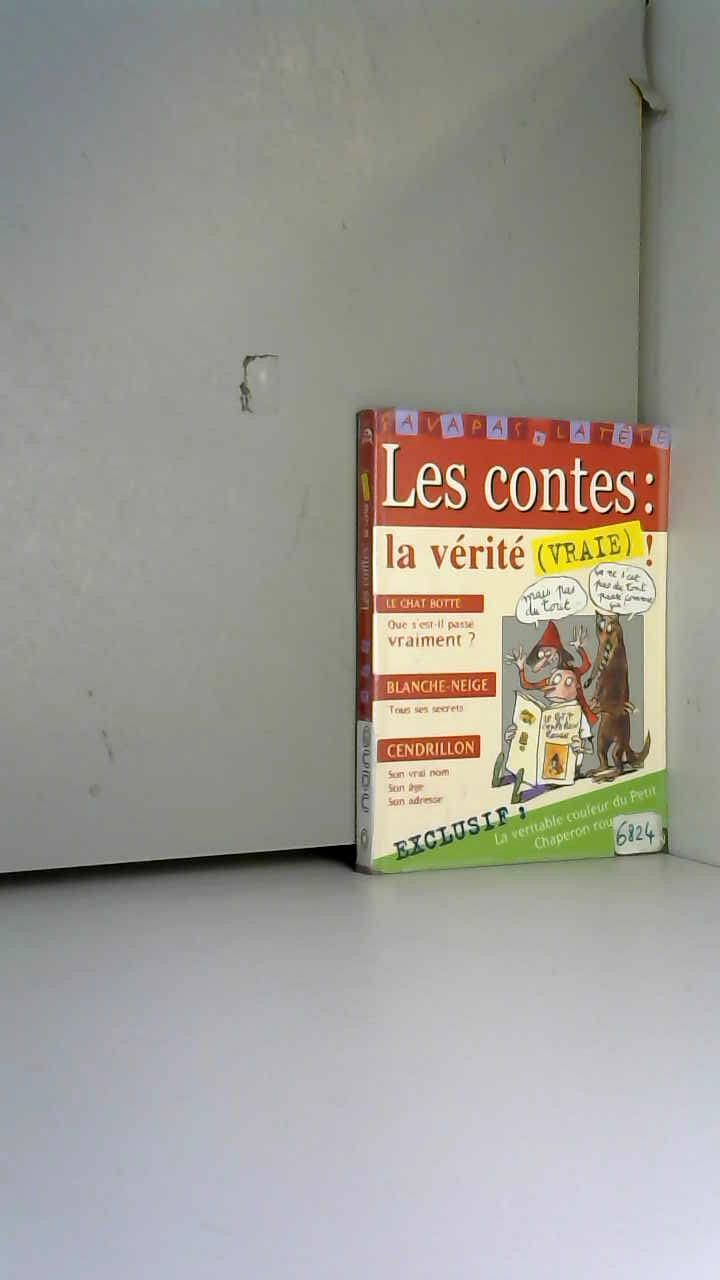book: (220, 330, 716, 911)
